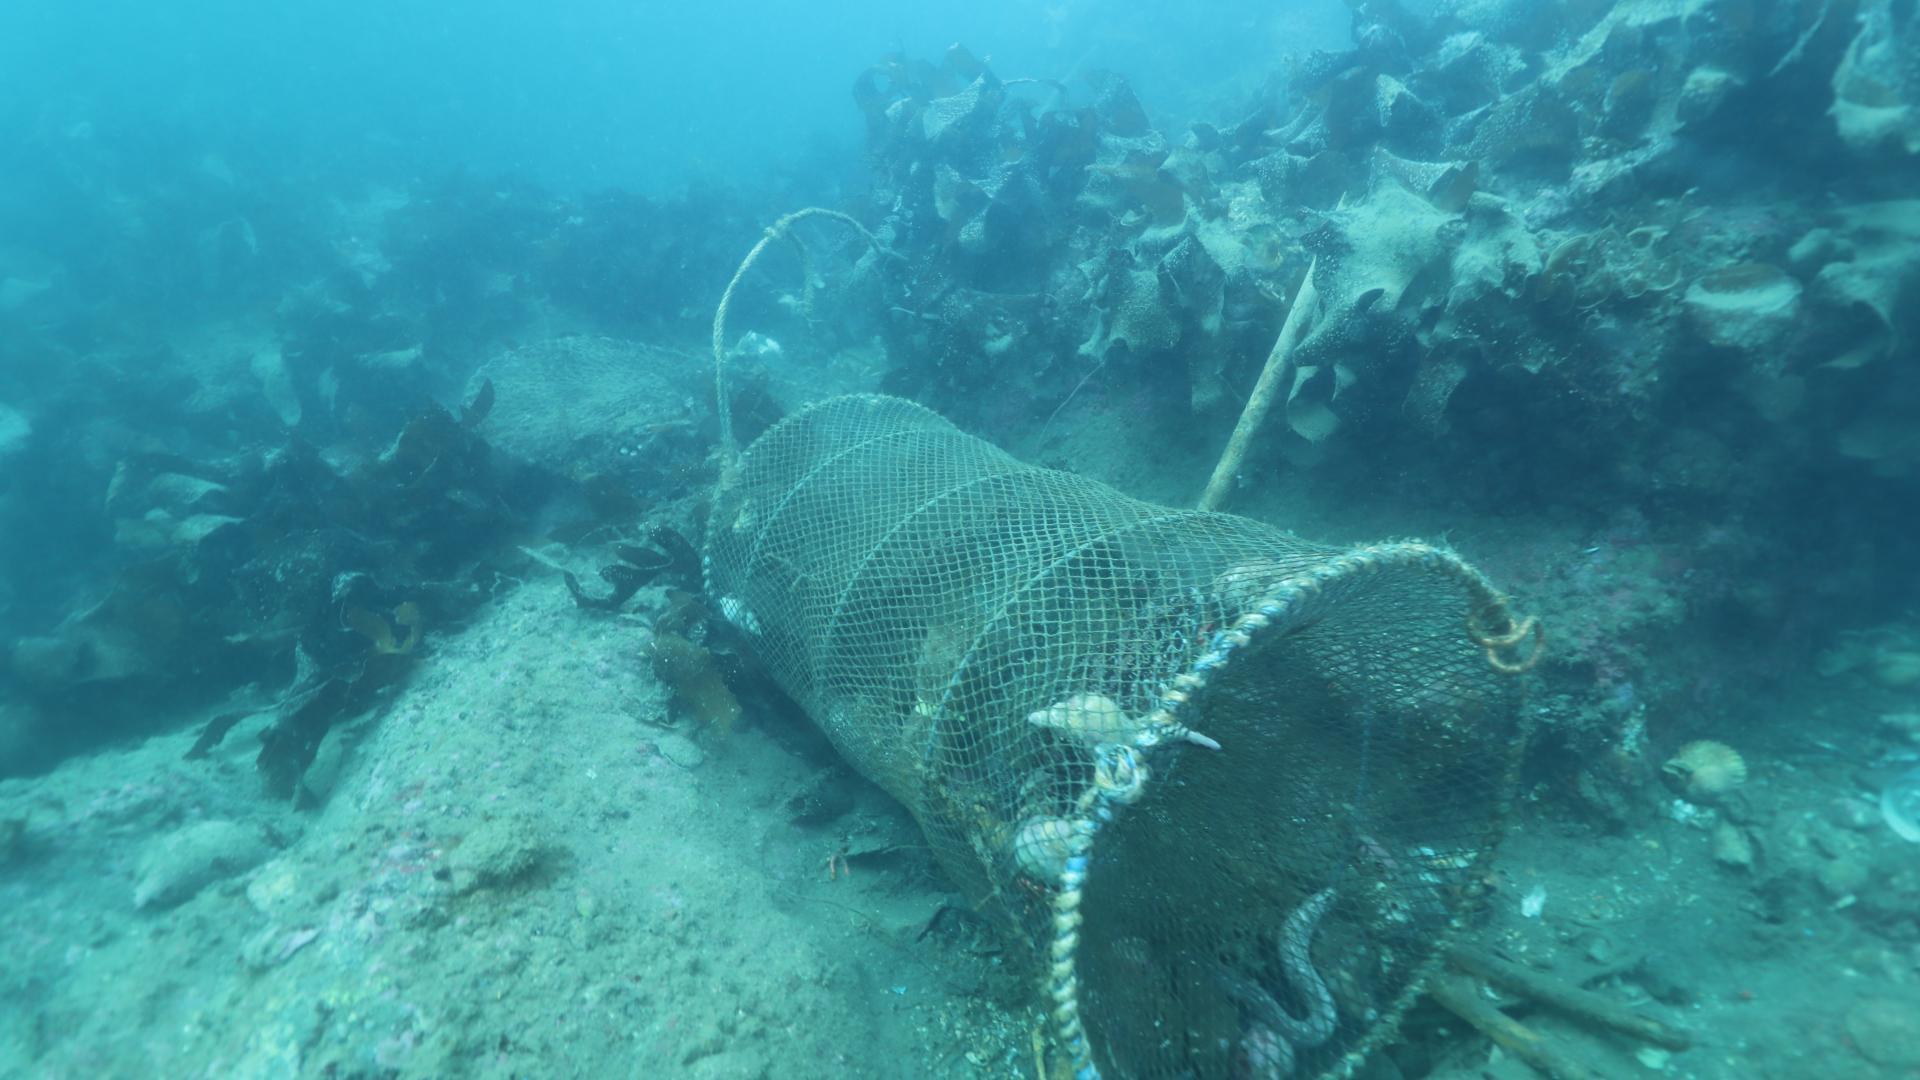bundle of ropes: (712, 203, 913, 471)
circular fish trap: (462, 331, 715, 477)
spring fish trap: (702, 390, 1530, 1080)
